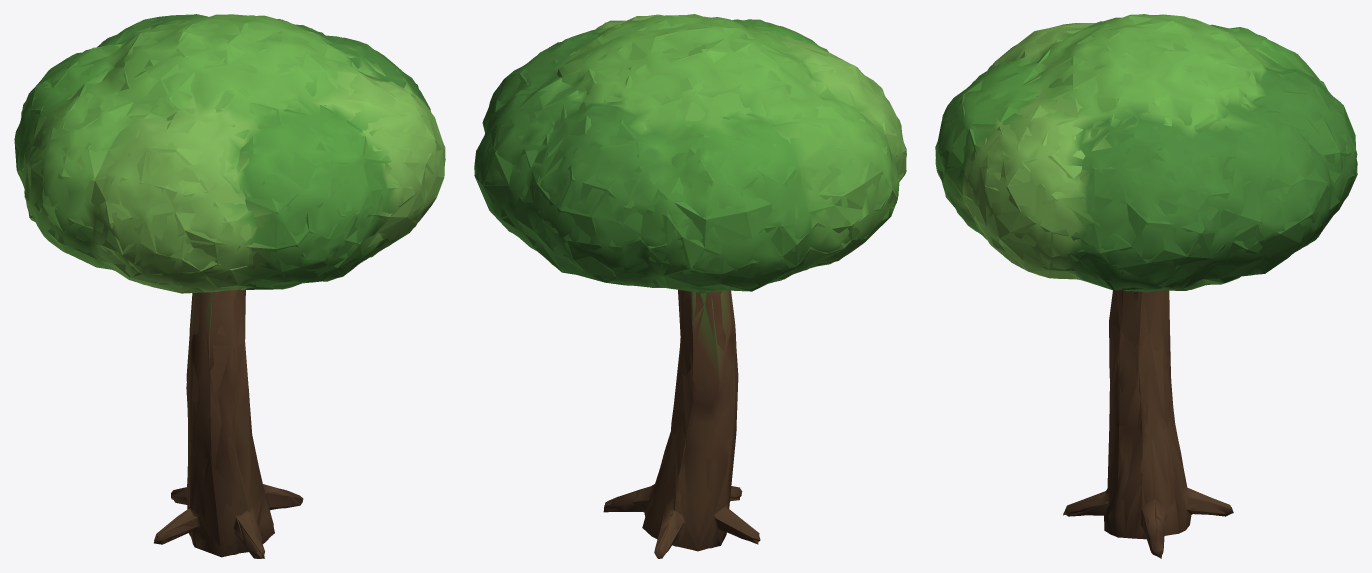
Rendered from broadleaf_mature_dense.glb.
3 renders of one model, left to right at view 1: azimuth 30°, elevation 25°; view 2: azimuth 150°, elevation 25°; view 3: azimuth 270°, elevation 25°, orthographic. The views are drawn at different scales.
Visible parts, largest first — view 1: broadleaf_mature_dense_LOD1, broadleaf_mature_dense_LOD2; view 2: broadleaf_mature_dense_LOD1, broadleaf_mature_dense_LOD2; view 3: broadleaf_mature_dense_LOD1, broadleaf_mature_dense_LOD2.
Boxes of the visible parts, x1,y1,x2,y2 form: broadleaf_mature_dense_LOD1: (15, 14, 445, 558); broadleaf_mature_dense_LOD2: (14, 14, 445, 558); broadleaf_mature_dense_LOD1: (474, 14, 906, 557); broadleaf_mature_dense_LOD2: (474, 15, 906, 558); broadleaf_mature_dense_LOD1: (935, 14, 1357, 556); broadleaf_mature_dense_LOD2: (935, 15, 1357, 558).
Size of the model in its own units: 3.92 by 4.93 by 3.79.
